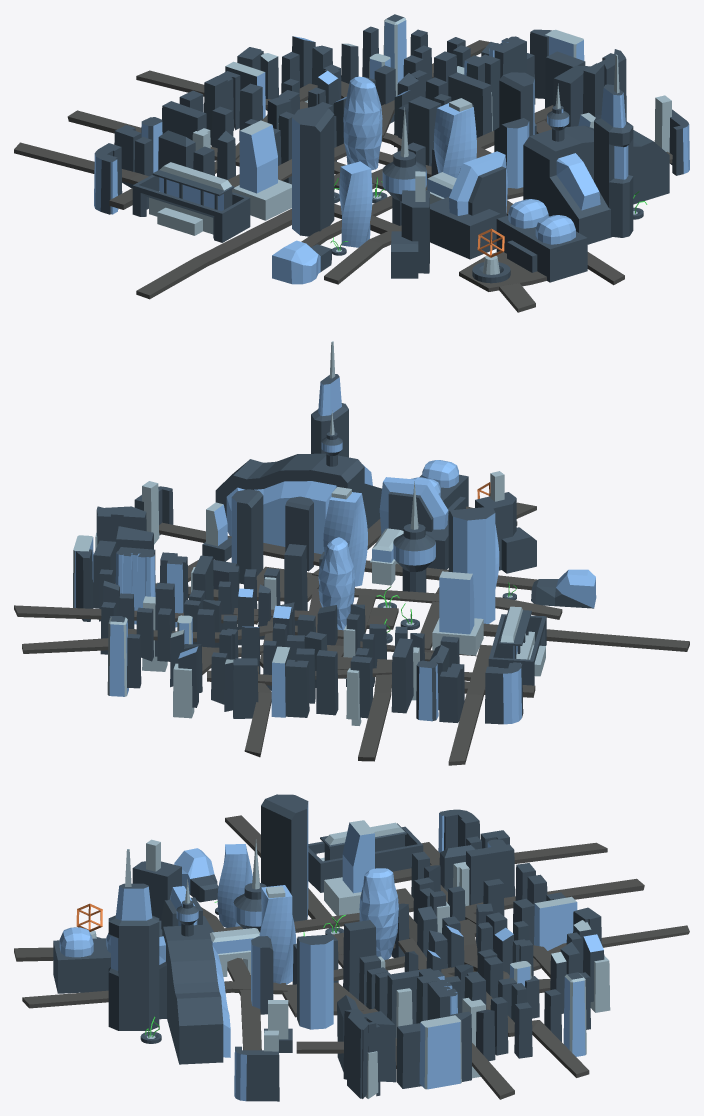
The model's file is Town_1.fbx.
3 renders of one model, top to bottom at view 1: azimuth 30°, elevation 25°; view 2: azimuth 150°, elevation 25°; view 3: azimuth 270°, elevation 25°, orthographic. The views are drawn at different scales.
Visible parts, largest first — view 1: Cylinder.003, Plane.1010; view 2: Cylinder.003, Plane.1010; view 3: Cylinder.003, Plane.1010.
Part boxes in pixels (x1,y1,x2,y2): Cylinder.003: (94, 14, 689, 284); Plane.1010: (14, 40, 672, 312); Cylinder.003: (73, 341, 596, 725); Plane.1010: (14, 502, 689, 765); Cylinder.003: (53, 794, 610, 1101); Plane.1010: (14, 815, 689, 1099).
Bounding box in the file's own units: 5707 × 2062 × 5823.
